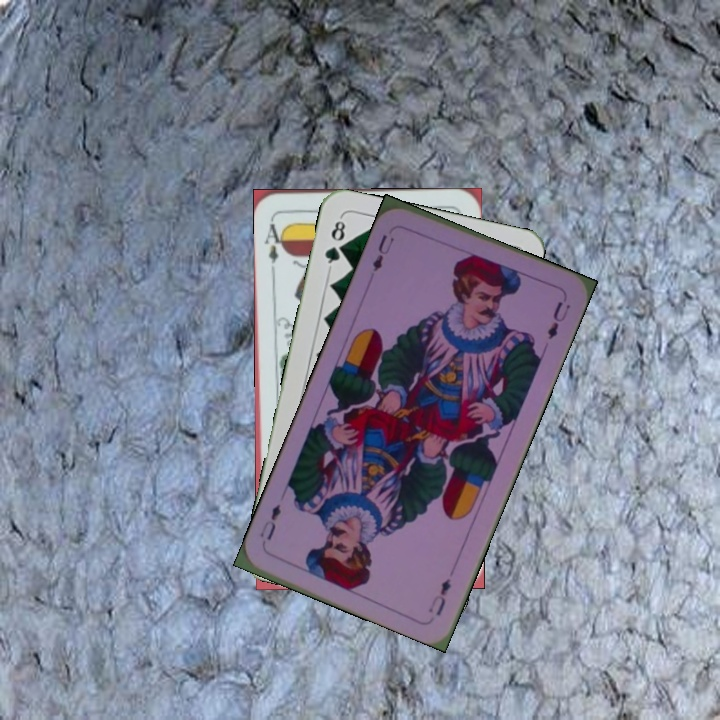EA: (261, 214, 288, 273)
EU: (424, 574, 454, 619), (368, 230, 397, 275)
G8: (320, 213, 348, 272)
